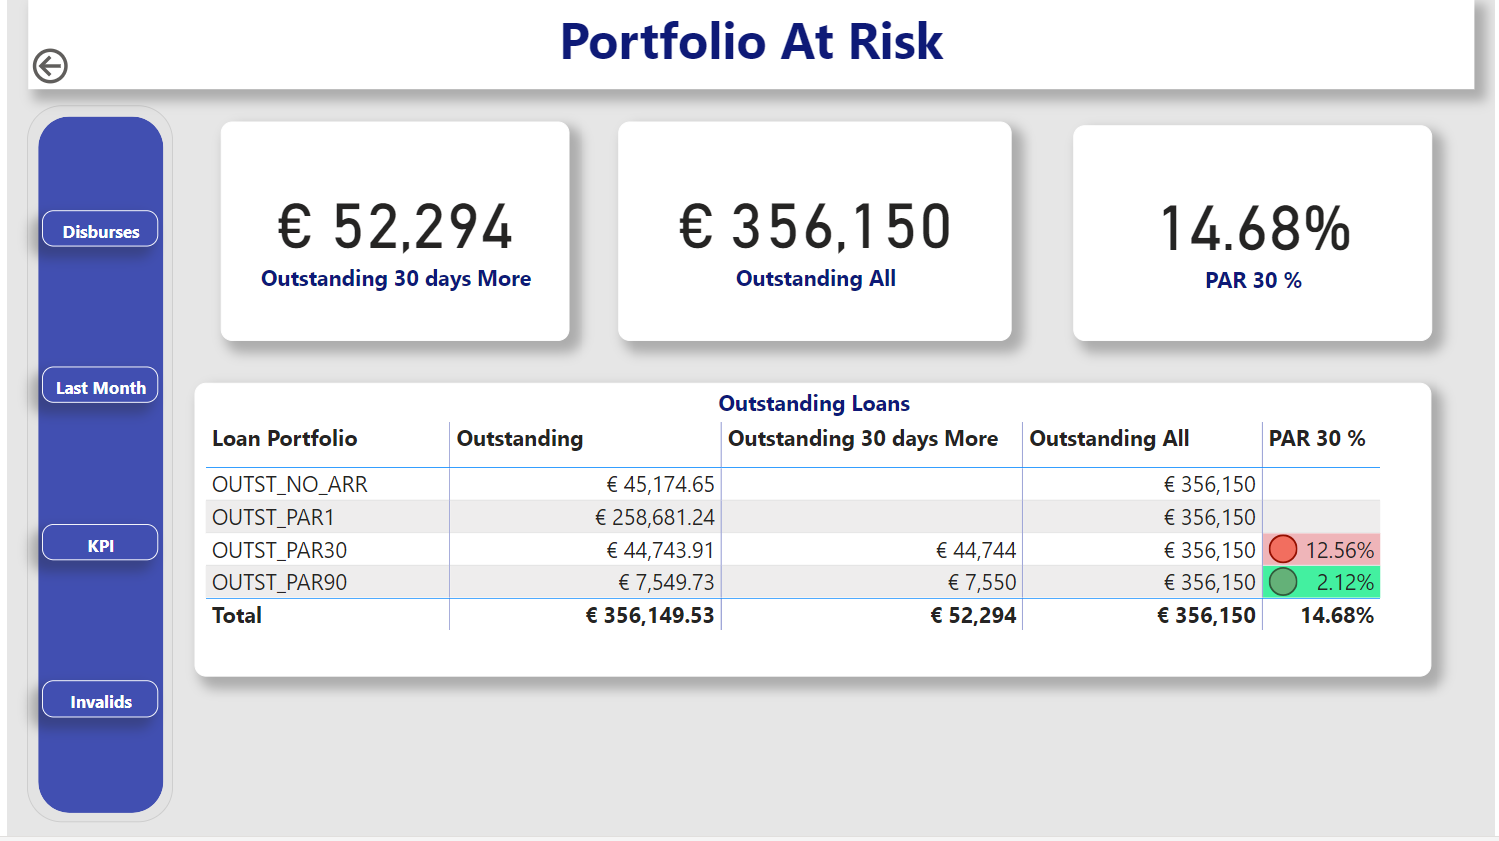

The page's visual inventory and layout, read from the dashboard file:
{"tool":"powerbi","page":{"name":"KPI","canvas":[1280,720],"ordinal":2},"visuals":[{"type":"shape","box":[17.1,91.4,125.7,617.1],"z":0},{"type":"card","fields":{"Values":["FactLoan.PAR 30 %"]},"box":[917.1,108.6,308.6,185.7],"z":1000},{"type":"actionButton","box":[30,181.4,100,31.1],"z":2000},{"type":"card","fields":{"Values":["DimDate.Outstanding 30 days More"]},"box":[184.3,105.7,300,188.6],"z":3000},{"type":"actionButton","box":[30,315.7,100,31.1],"z":4000},{"type":"card","fields":{"Values":["FactLoan.Outstanding All"]},"box":[525.7,105.7,338.6,188.6],"z":5000},{"type":"actionButton","box":[30,452.1,100,31.1],"z":6000},{"type":"textbox","box":[17.8,0,1243.8,77.7],"z":7000},{"type":"actionButton","box":[30,586.4,100,32.2],"z":8000},{"type":"tableEx","title":"Outstanding Loans","fields":{"Values":["FactLoan.loan_substatus_key","Sum(FactLoan.principal_amount_outstanding_eur)","DimDate.Outstanding 30 days More","FactLoan.Outstanding All","FactLoan.PAR 30 %"]},"box":[161.4,330,1064.3,252.9],"z":9000},{"type":"actionButton","box":[17.1,37.1,60,40],"z":10000}]}

Visuals, with their boxes in screenshot pixels (x1, y1, x2, y2), scaled from the page's 1280x720 canvas onto the 1499x841 screenshot:
shape: bbox=[20, 107, 167, 828]
card - FactLoan.PAR 30 %: bbox=[1074, 127, 1435, 344]
actionButton: bbox=[35, 212, 152, 248]
card - DimDate.Outstanding 30 days More: bbox=[216, 123, 567, 344]
actionButton: bbox=[35, 369, 152, 405]
card - FactLoan.Outstanding All: bbox=[616, 123, 1012, 344]
actionButton: bbox=[35, 528, 152, 564]
textbox: bbox=[21, 0, 1477, 91]
actionButton: bbox=[35, 685, 152, 723]
"Outstanding Loans" tableEx: bbox=[189, 385, 1435, 681]
actionButton: bbox=[20, 43, 90, 90]
